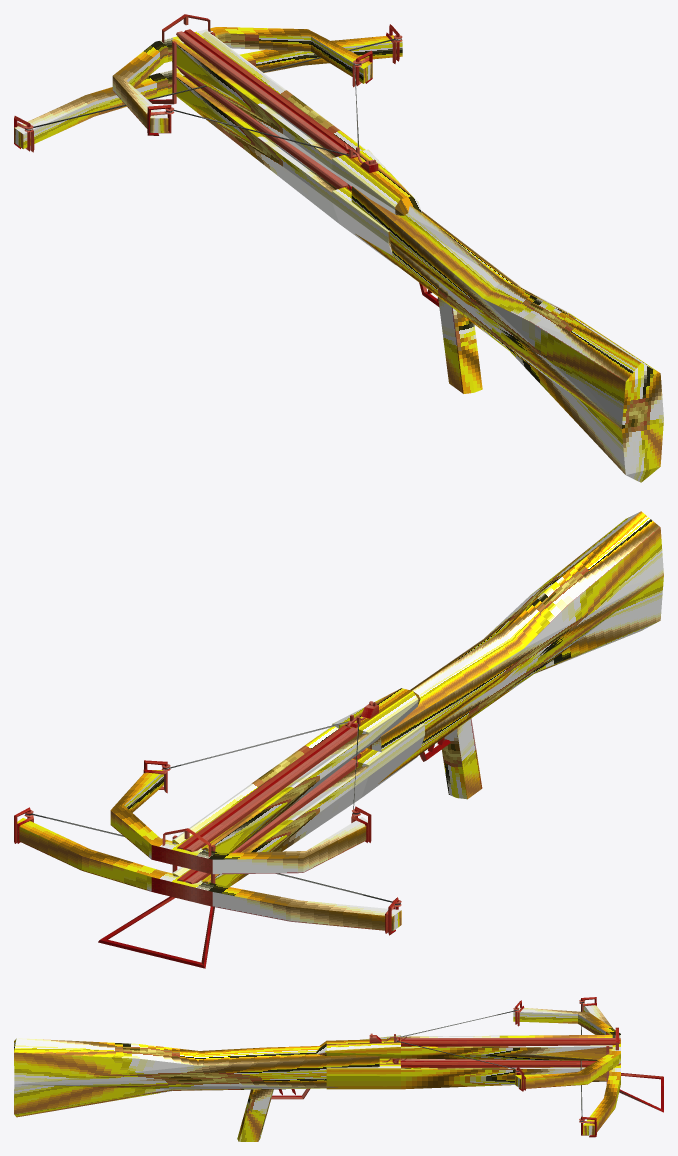
File: double_crossbow_stretching_upper_5.obj
3 views of the same model, one above another, from view 1: azimuth 30°, elevation 25°; view 2: azimuth 150°, elevation 25°; view 3: azimuth 270°, elevation 25° (orthographic). The views are drawn at different scales.
Visible parts, largest first — view 1: Torus.009_Torus.008, Torus.000, Torus.001_Torus.007; view 2: Torus.009_Torus.008, Torus.000, Torus.001_Torus.007; view 3: Torus.009_Torus.008, Torus.000, Torus.001_Torus.007.
Boxes of the visible parts, left/top/right/bottom form: Torus.009_Torus.008: left=344, top=144, right=663, bottom=482; Torus.000: left=149, top=14, right=422, bottom=264; Torus.001_Torus.007: left=14, top=24, right=402, bottom=155; Torus.009_Torus.008: left=345, top=511, right=663, bottom=799; Torus.000: left=98, top=688, right=424, bottom=968; Torus.001_Torus.007: left=14, top=721, right=401, bottom=935; Torus.009_Torus.008: left=14, top=1033, right=406, bottom=1141; Torus.000: left=316, top=1027, right=663, bottom=1112; Torus.001_Torus.007: left=396, top=997, right=620, bottom=1137.
Size of the model in its own units: 3.45 by 1.45 by 7.77.
